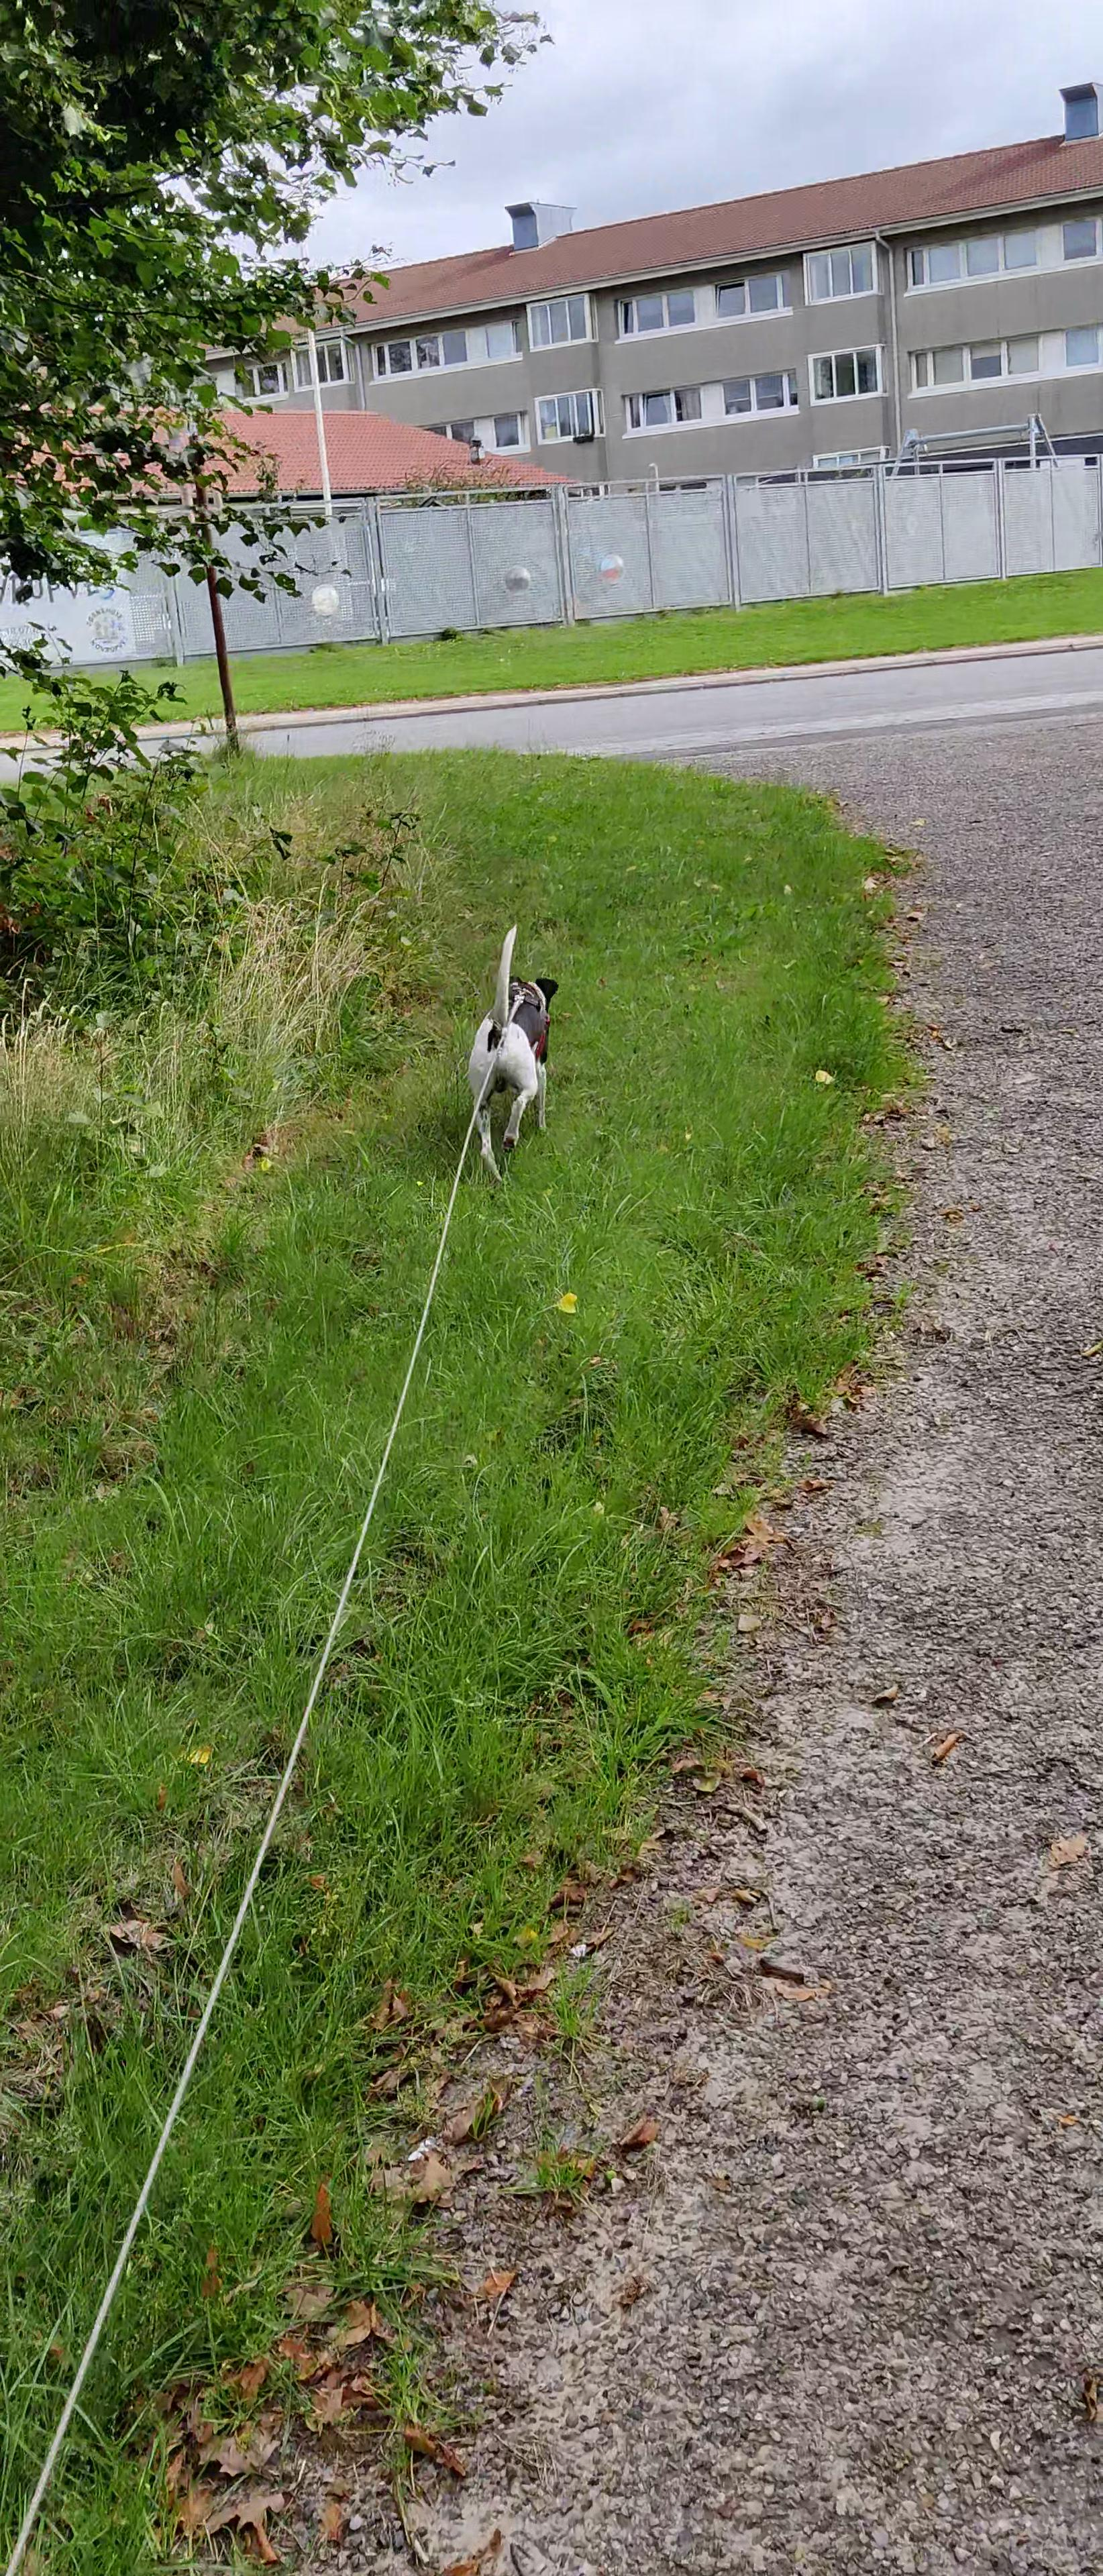Dog: (460, 917, 567, 1191)
